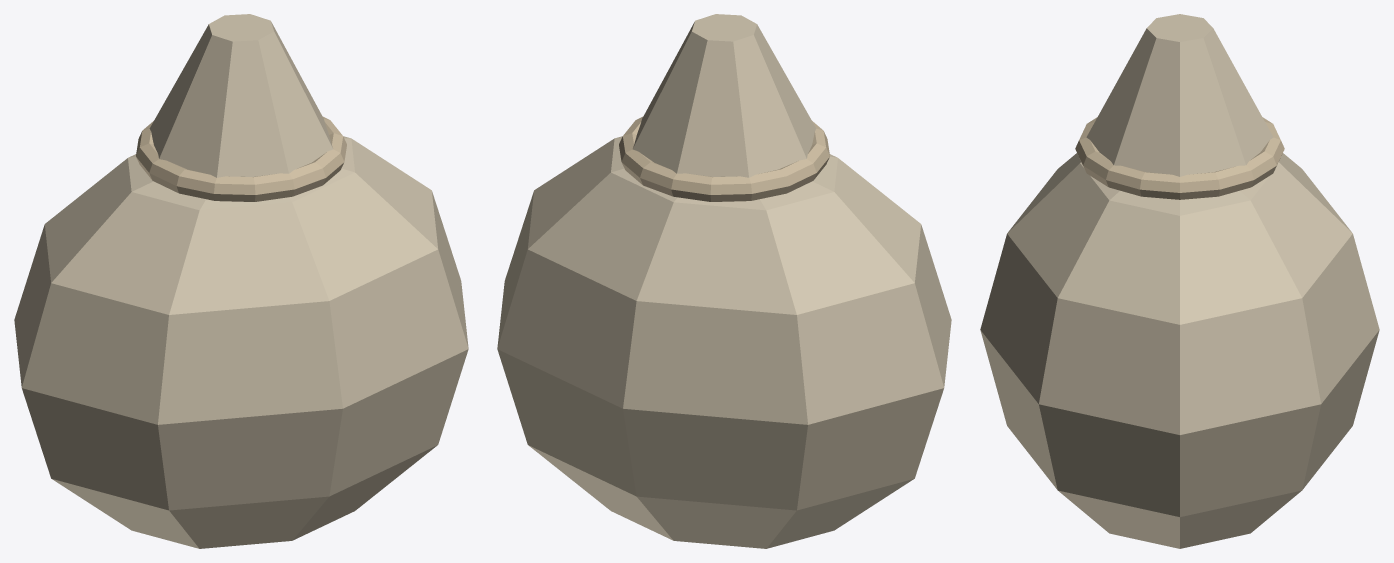
Rendered from Sack_2.glb.
3 views of the same model, side by side, from view 1: azimuth 30°, elevation 25°; view 2: azimuth 150°, elevation 25°; view 3: azimuth 270°, elevation 25° (orthographic).
Visible parts, largest first — view 1: Sack_2; view 2: Sack_2; view 3: Sack_2.
Boxes of the visible parts, box(x1,y1,x2,y2) form: Sack_2: box(14, 14, 468, 548); Sack_2: box(497, 14, 951, 548); Sack_2: box(980, 14, 1379, 548).
Size of the model in its own units: 0.3 by 0.3275 by 0.24.
